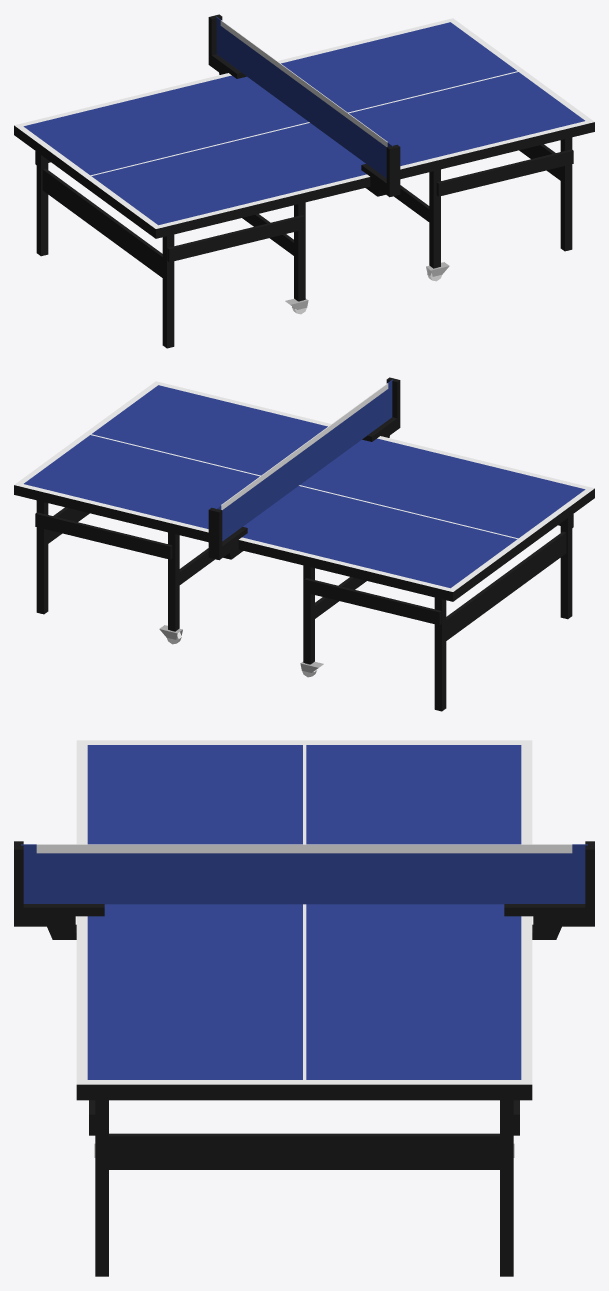
Rendered from ping_pong_table_from_poly_by_google (1).glb.
The picture shows the model from 3 angles, top to bottom: view 1: azimuth 30°, elevation 25°; view 2: azimuth 150°, elevation 25°; view 3: azimuth 270°, elevation 25°; orthographic projection. The views are drawn at different scales.
Visible parts, largest first — view 1: Object_5, Object_4, Object_6, Object_8; view 2: Object_5, Object_4, Object_6, Object_8; view 3: Object_5, Object_4, Object_8, Object_6.
Boxes of the visible parts, <box> form: Object_5: <box>23,16,584,225</box>; Object_4: <box>14,14,594,348</box>; Object_6: <box>14,18,594,314</box>; Object_8: <box>220,26,386,178</box>; Object_5: <box>24,379,585,588</box>; Object_4: <box>14,377,594,711</box>; Object_6: <box>14,381,594,677</box>; Object_8: <box>222,389,388,541</box>; Object_5: <box>21,745,587,1079</box>; Object_4: <box>14,841,594,1276</box>; Object_8: <box>36,853,572,904</box>; Object_6: <box>36,740,572,1084</box>.
Bounding box in the file's own units: 9.31 × 3.45 × 6.64.
